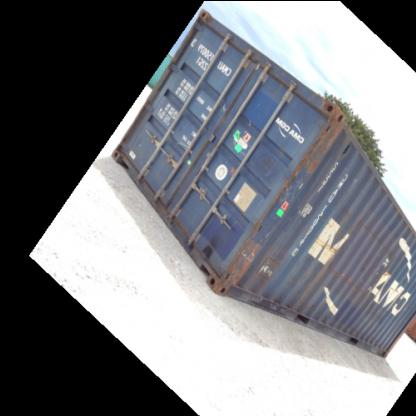Damage: (282, 108, 350, 201), (320, 260, 404, 316), (228, 218, 282, 293), (352, 209, 394, 258), (310, 232, 340, 254), (196, 228, 218, 258)
